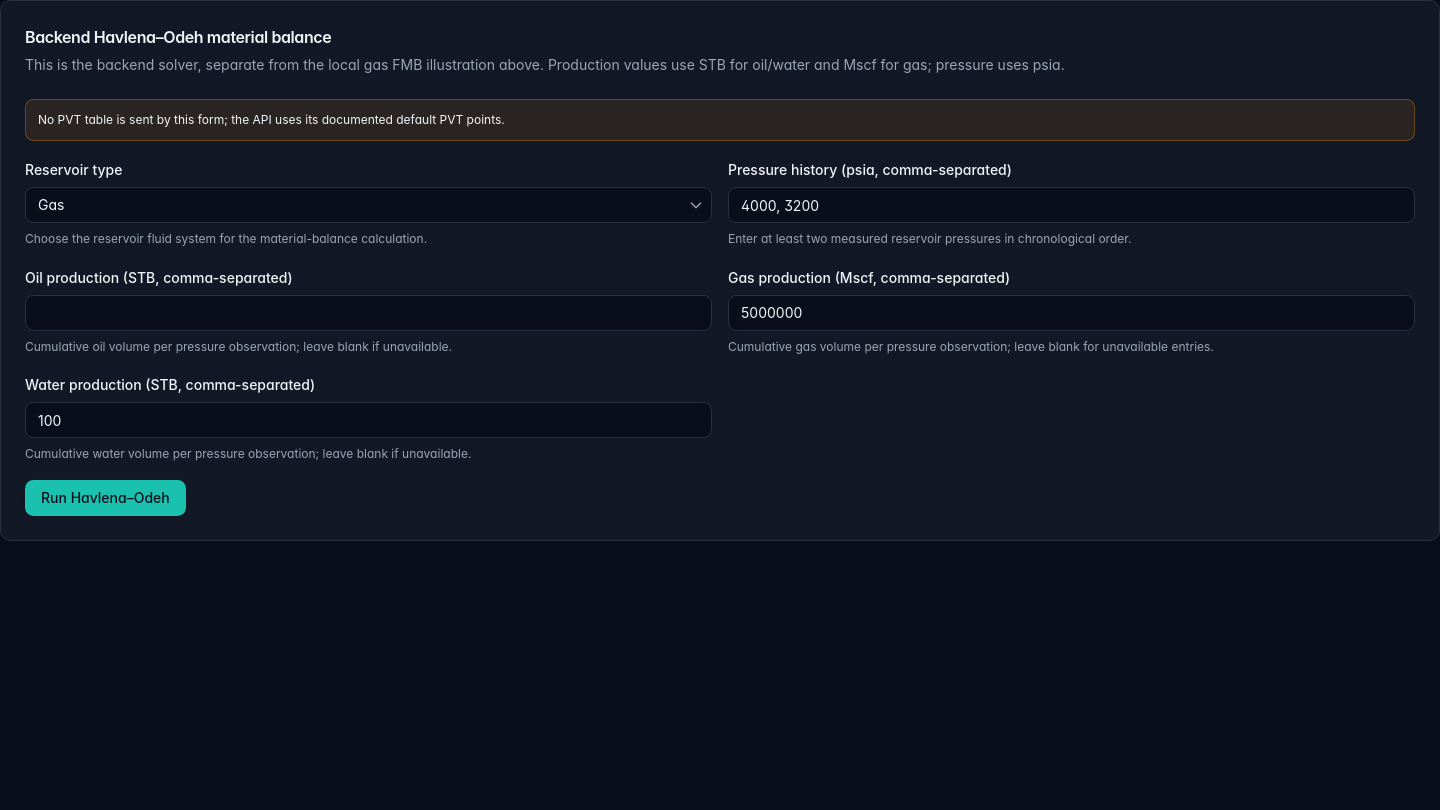
Test case: MaterialBalanceEnginePanel › displays local validation failures instead of sending malformed history
Replace the text in the field labelled "Pressure history (psia, comma-separated)" with "4000" at (1072, 205), box [728,187,1415,223]
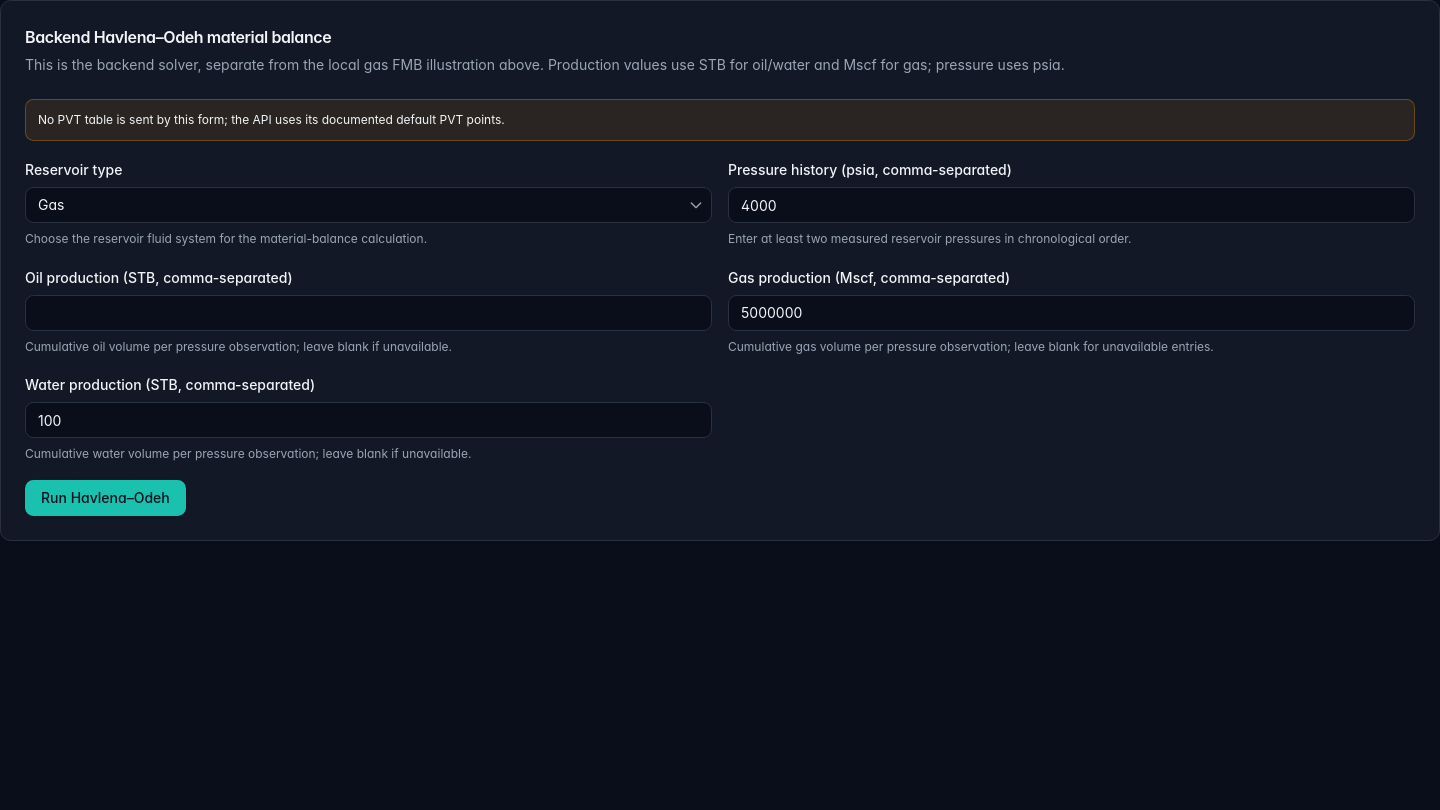
Click the button "Run Havlena–Odeh".
click(105, 498)  # box [25,480,186,516]
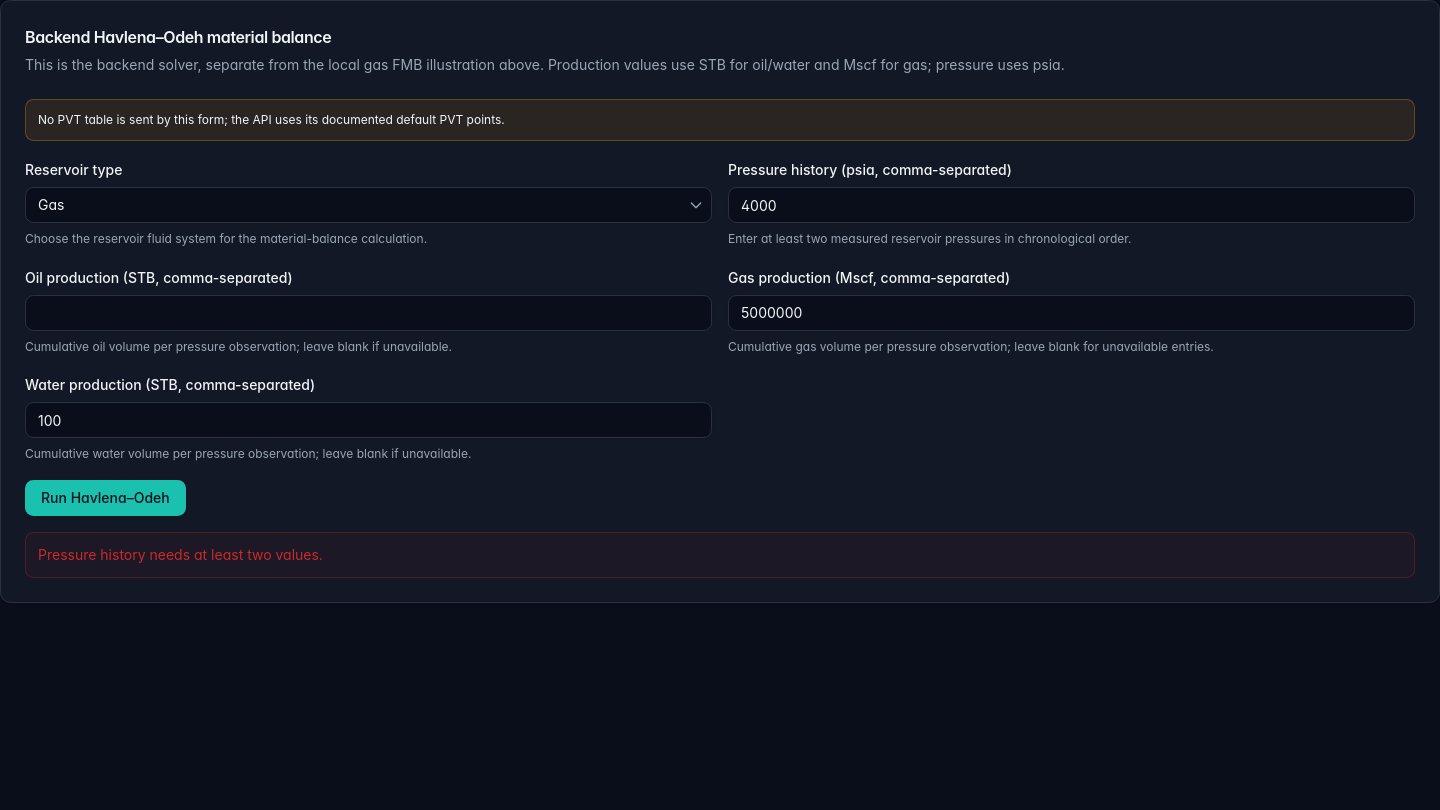
Expected: the message reads "Pressure history needs at least two values.", [38,546,323,562]
